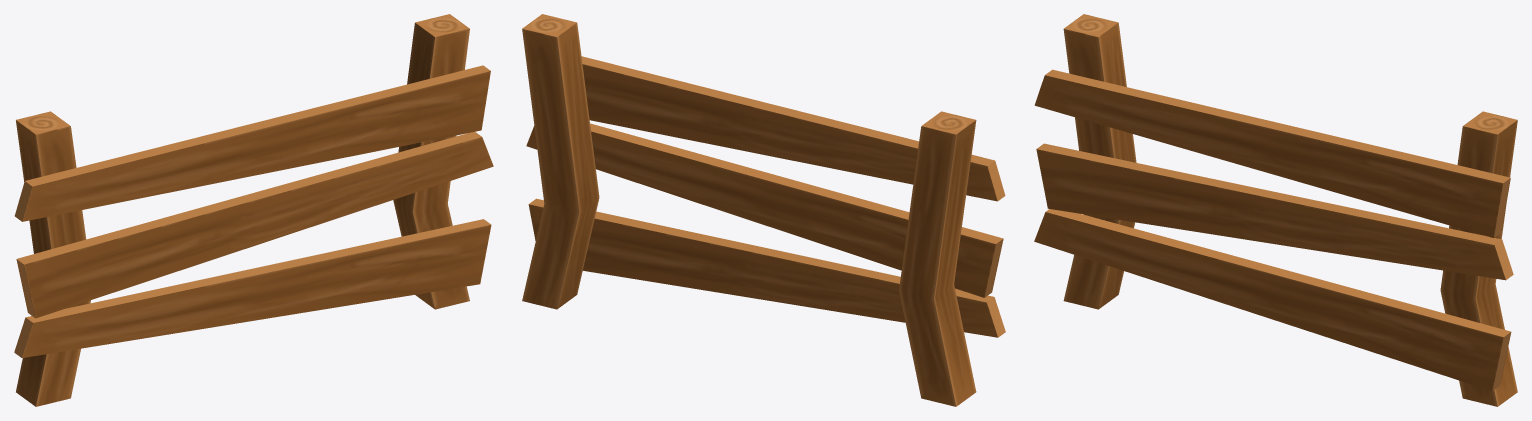
The model's file is Fence.FBX.
3 renders of one model, left to right at view 1: azimuth 30°, elevation 25°; view 2: azimuth 150°, elevation 25°; view 3: azimuth 330°, elevation 25°, orthographic.
Visible parts, largest first — view 1: Fence; view 2: Fence; view 3: Fence.
Boxes of the visible parts, left/top/right/bottom form: Fence: left=14, top=14, right=493, bottom=406; Fence: left=522, top=14, right=1005, bottom=406; Fence: left=1034, top=14, right=1517, bottom=406.
Size of the model in its own units: 81 by 44.66 by 8.3.
1 material, 1 textured.
